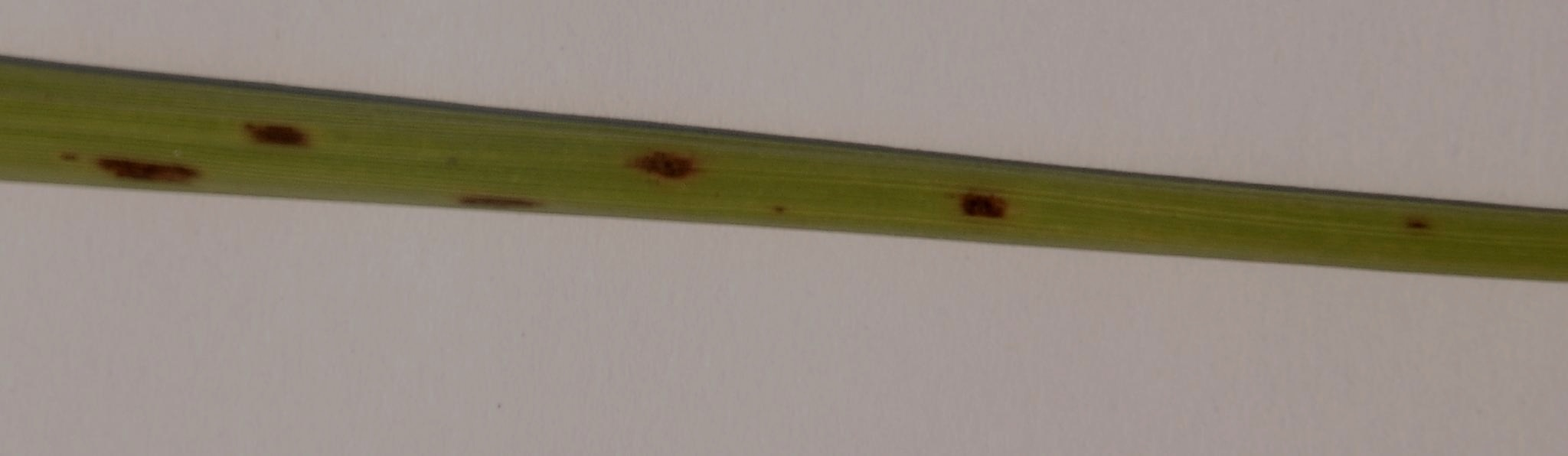Bacterial_Leaf_Blight: (62, 150, 203, 191), (619, 125, 700, 185), (942, 178, 1015, 241), (436, 174, 534, 219), (214, 112, 322, 151), (1396, 193, 1441, 238)
